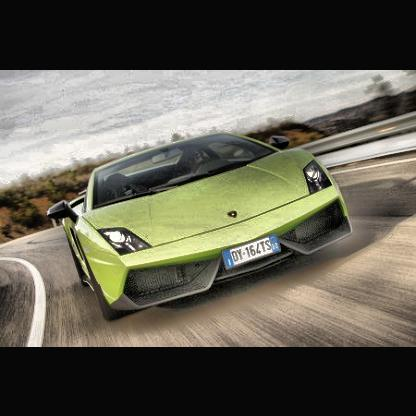Lamborghini Gallardo LP 570-4 Superleggera 2012: (47, 129, 359, 326)
